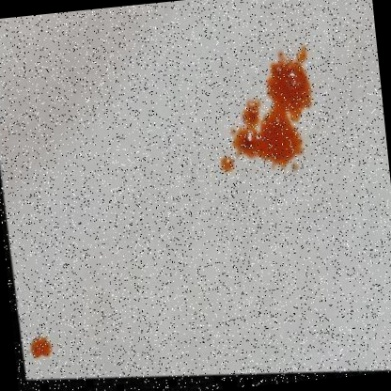kimchi: (206, 47, 324, 186), (26, 329, 51, 364)
